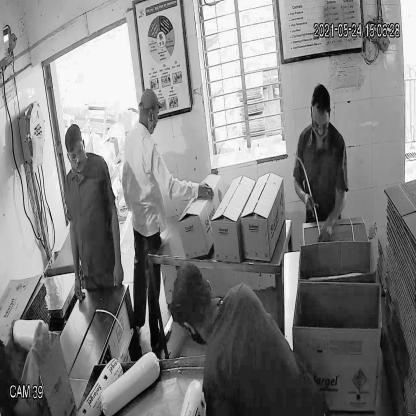goggles: (66, 141, 86, 162)
